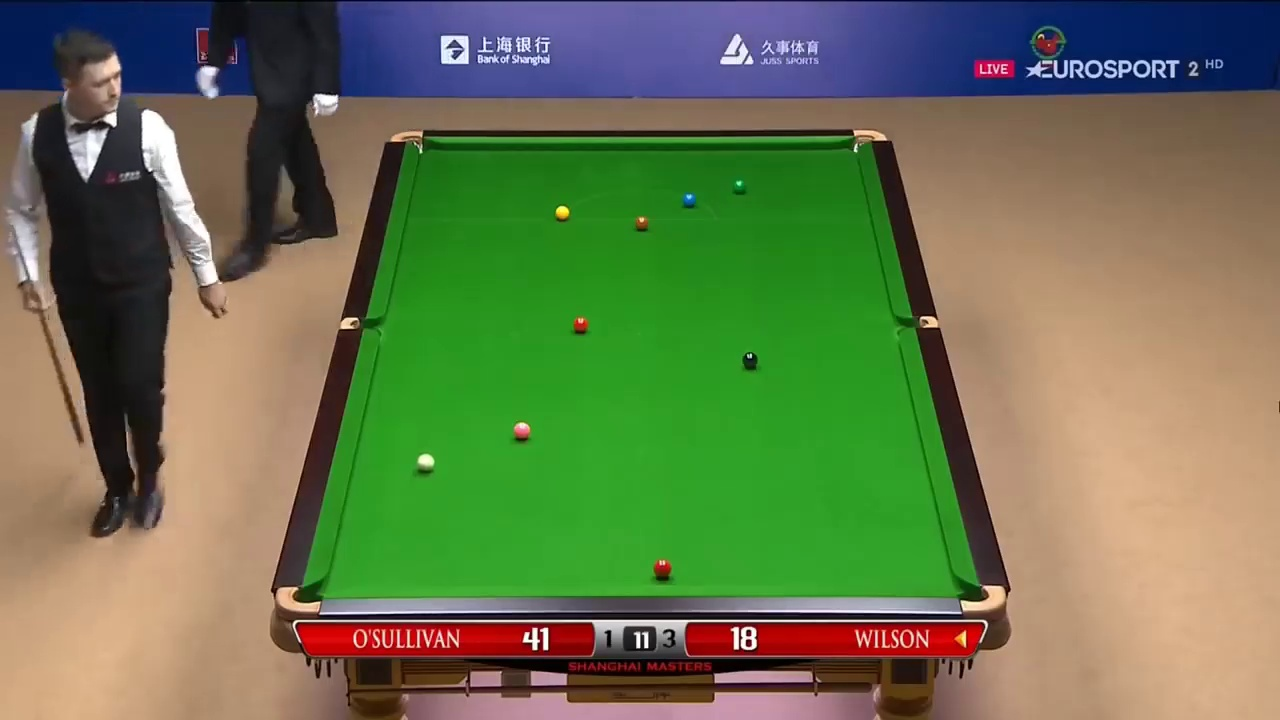black: (741, 351, 759, 369)
blue: (682, 191, 698, 208)
brown: (634, 215, 647, 230)
green: (733, 178, 749, 192)
pink: (513, 422, 530, 438)
red: (653, 559, 670, 577), (572, 317, 588, 334)
white: (415, 453, 436, 471)
yellow: (556, 206, 570, 222)
